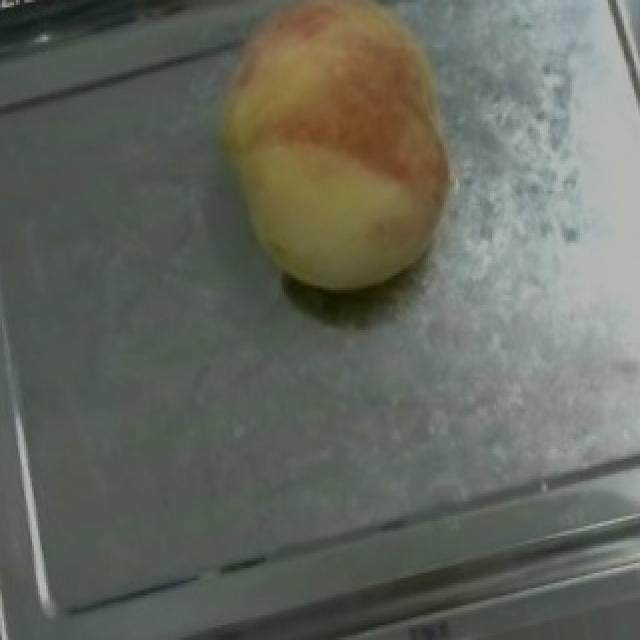Fruit: (176, 0, 496, 322)
